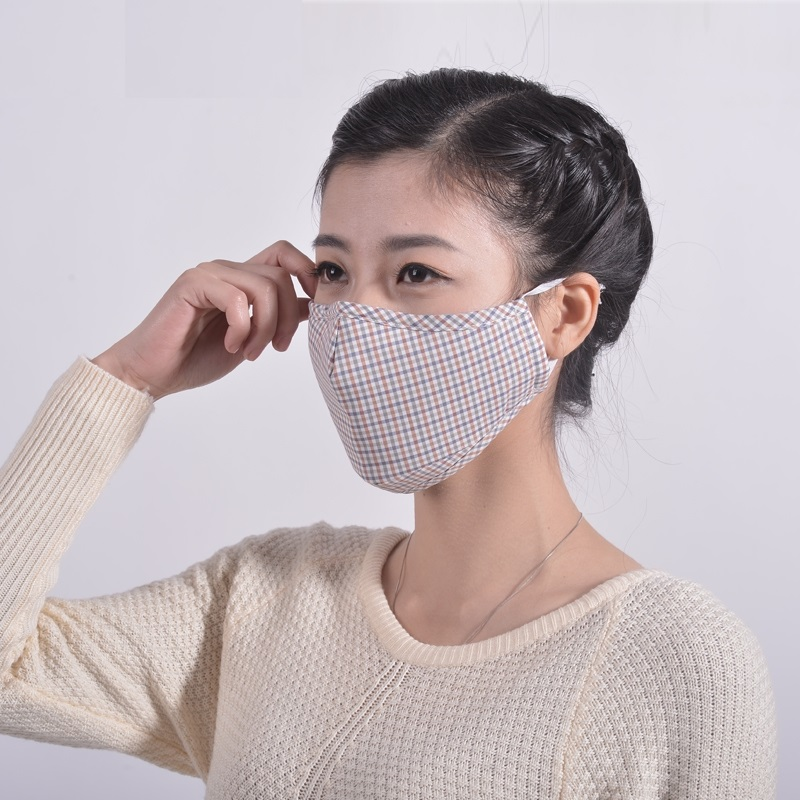face_mask: (311, 151, 529, 467)
